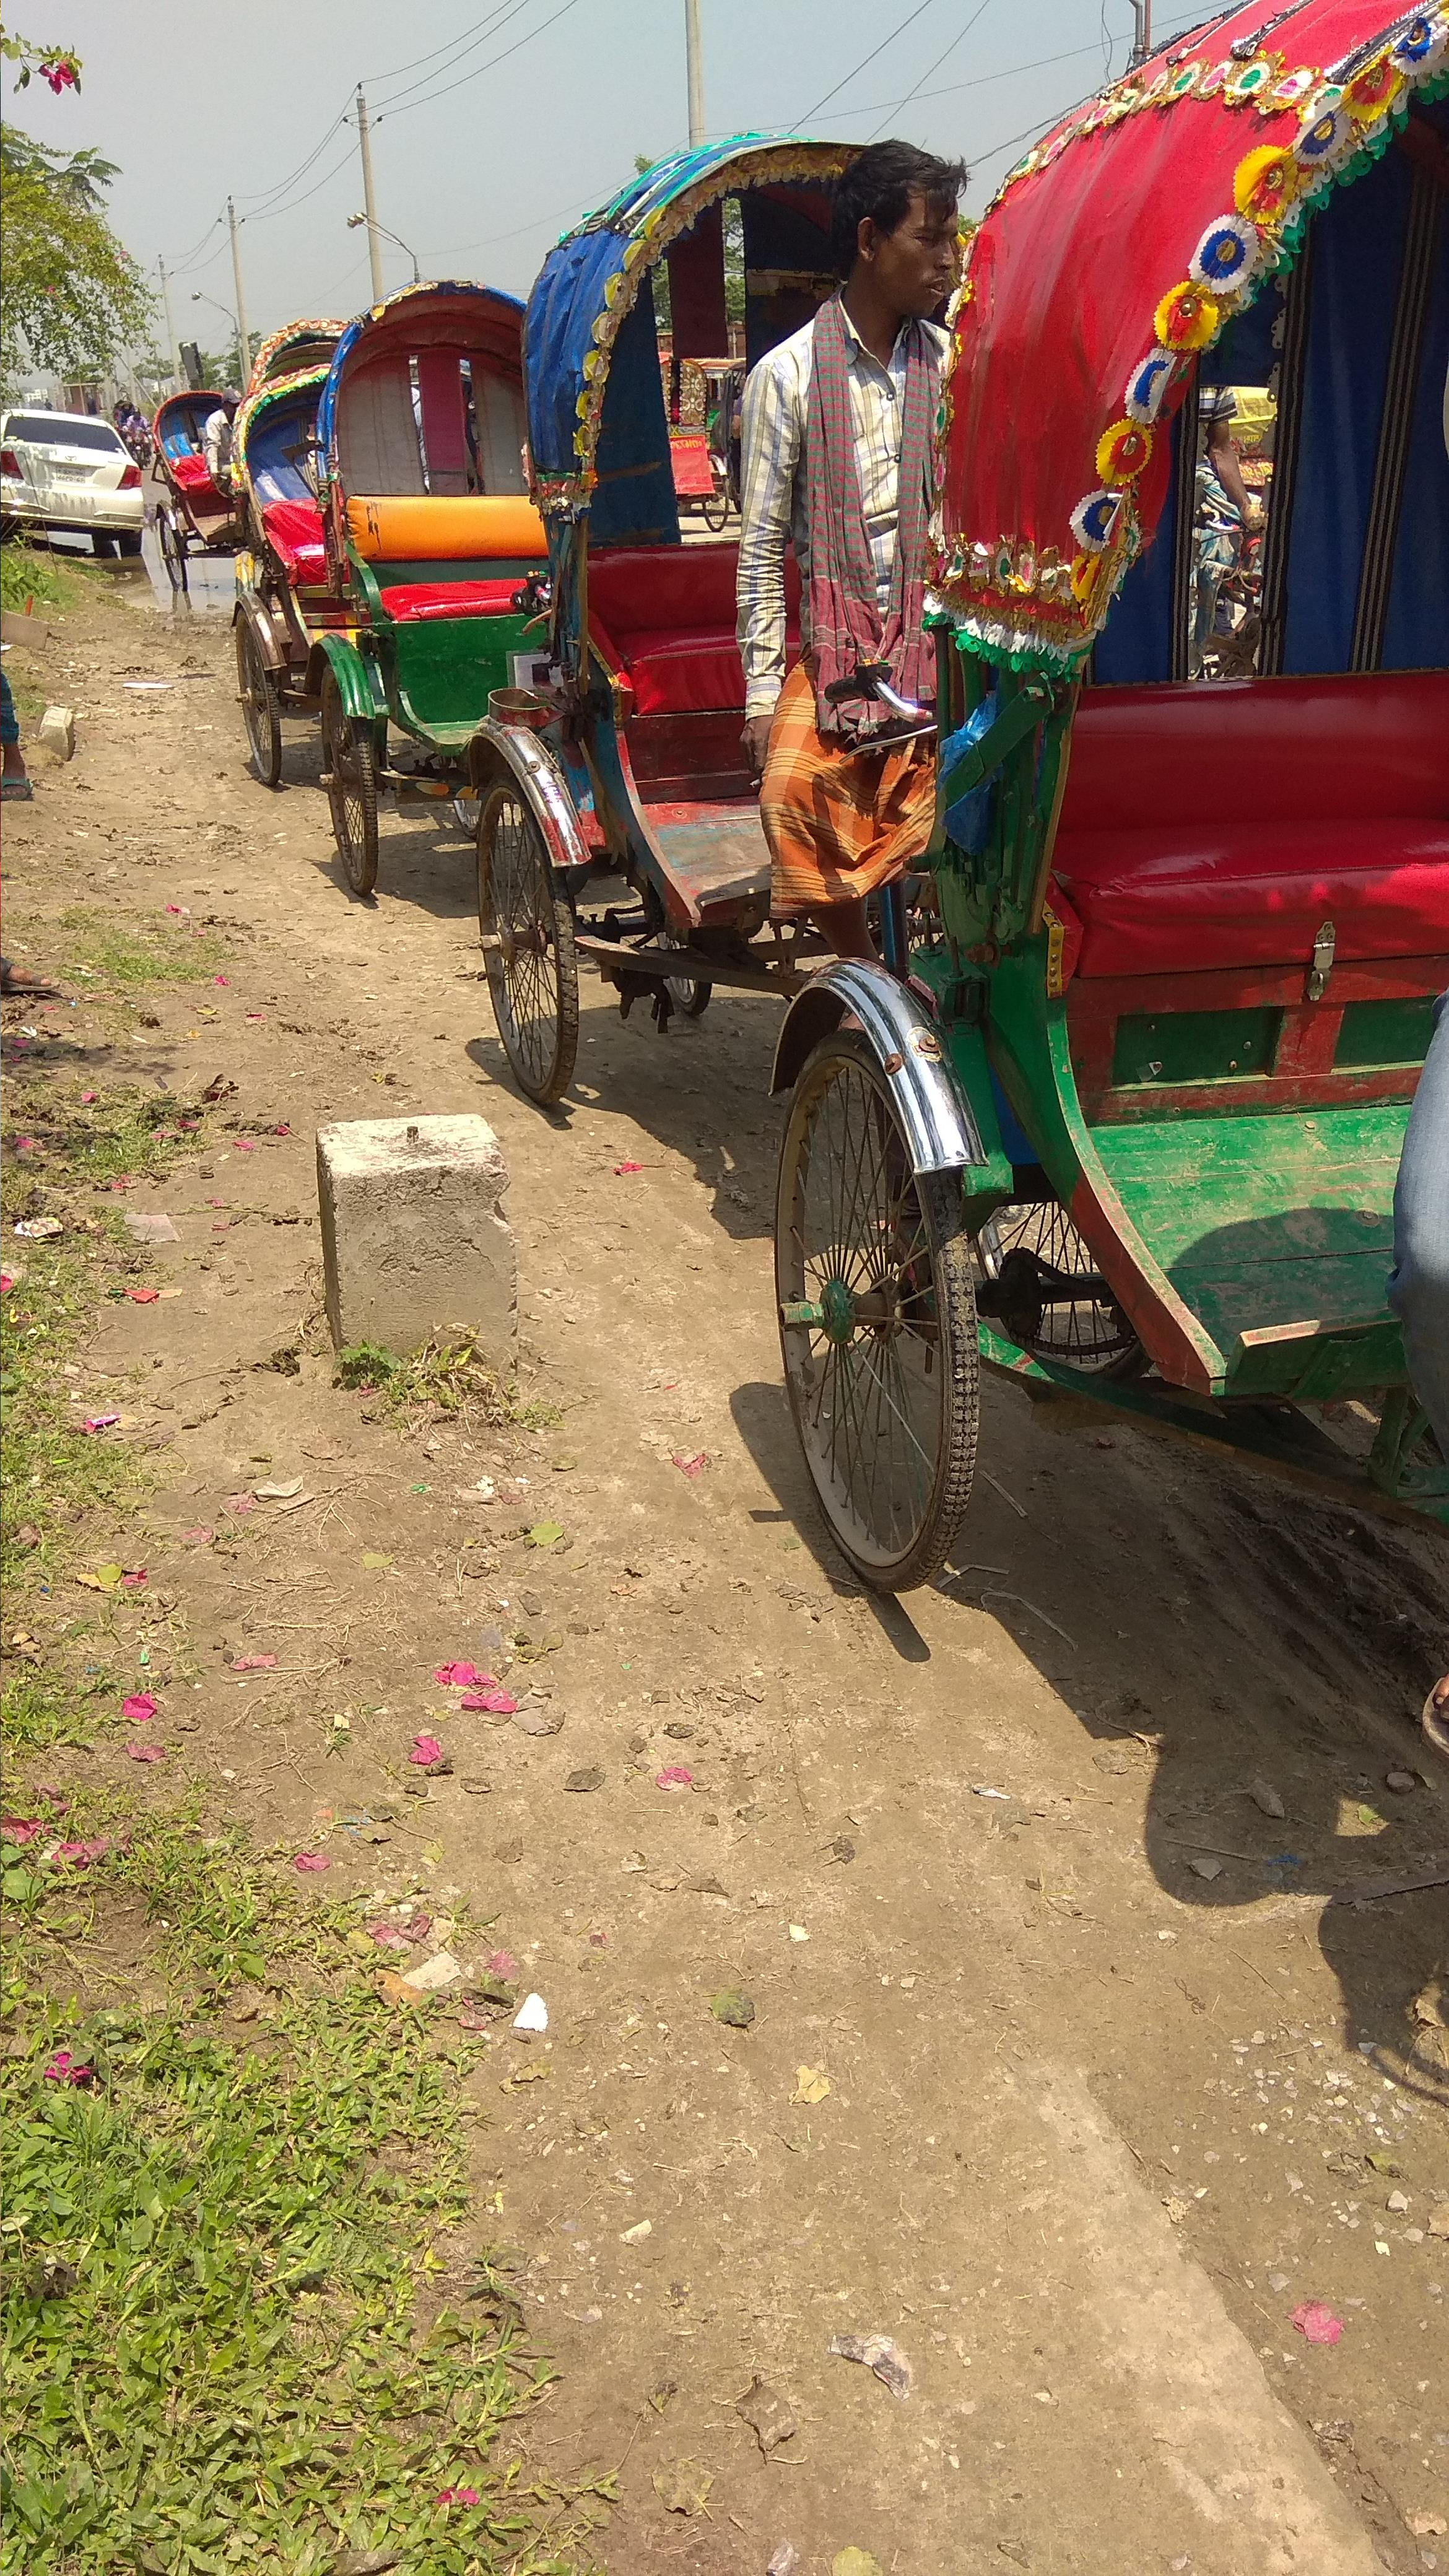Rickshaw: (833, 18, 1447, 1539), (471, 88, 1008, 1169), (324, 251, 596, 878), (218, 345, 435, 789), (136, 356, 257, 598)
